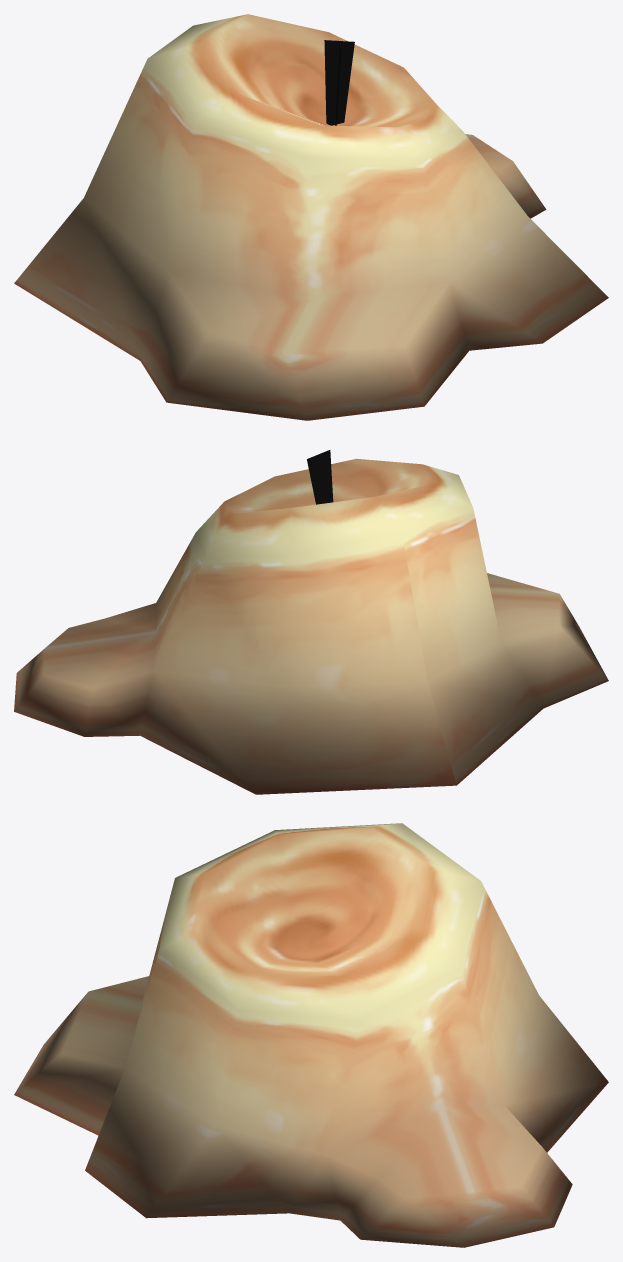
File: SM_PROP_candle_interior_02.fbx
3 views of the same model, one above another, from view 1: azimuth 30°, elevation 25°; view 2: azimuth 150°, elevation 25°; view 3: azimuth 270°, elevation 25° (orthographic). The views are drawn at different scales.
Parts seen in each view (by area): view 1: SM_PROP_candle_interior_02; view 2: SM_PROP_candle_interior_02; view 3: SM_PROP_candle_interior_02.
Part boxes in pixels (bbox=[...]): SM_PROP_candle_interior_02: bbox=[14, 14, 608, 420]; SM_PROP_candle_interior_02: bbox=[14, 450, 608, 794]; SM_PROP_candle_interior_02: bbox=[14, 823, 608, 1247].
Size of the model in its own units: 19.06 by 9.06 by 19.48.
